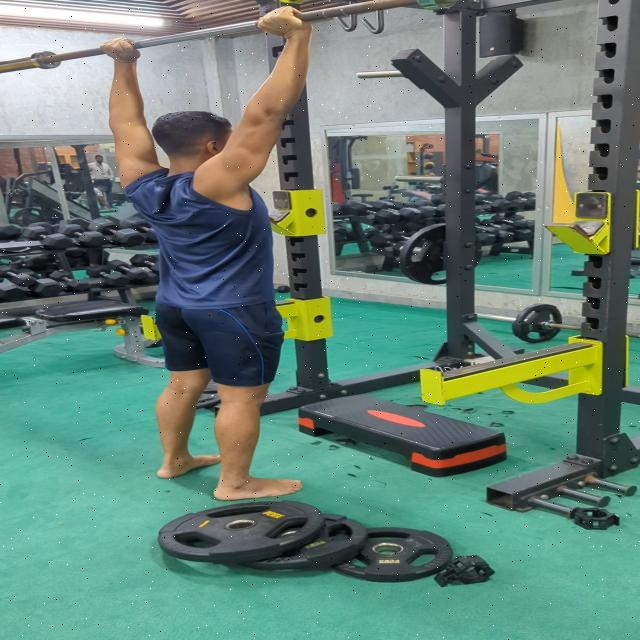Normal_OverheadPress: (92, 0, 350, 505)
